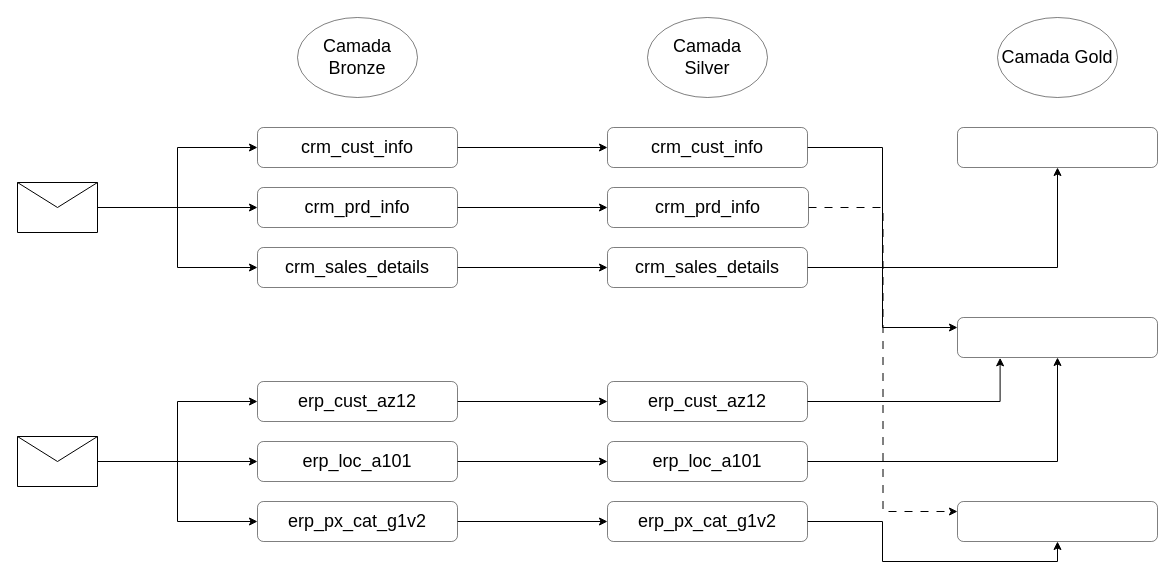
Some shapes in this 1175 by 587 pixel diagram are drawn without their labels. Here are the shapes that lost their labels. From the top down, the centre of each, then its label:
(x=1057, y=147): fact_sales
(x=57, y=207): CRM
(x=1057, y=337): dim_customers
(x=57, y=461): ERP
(x=1057, y=521): dim_products
